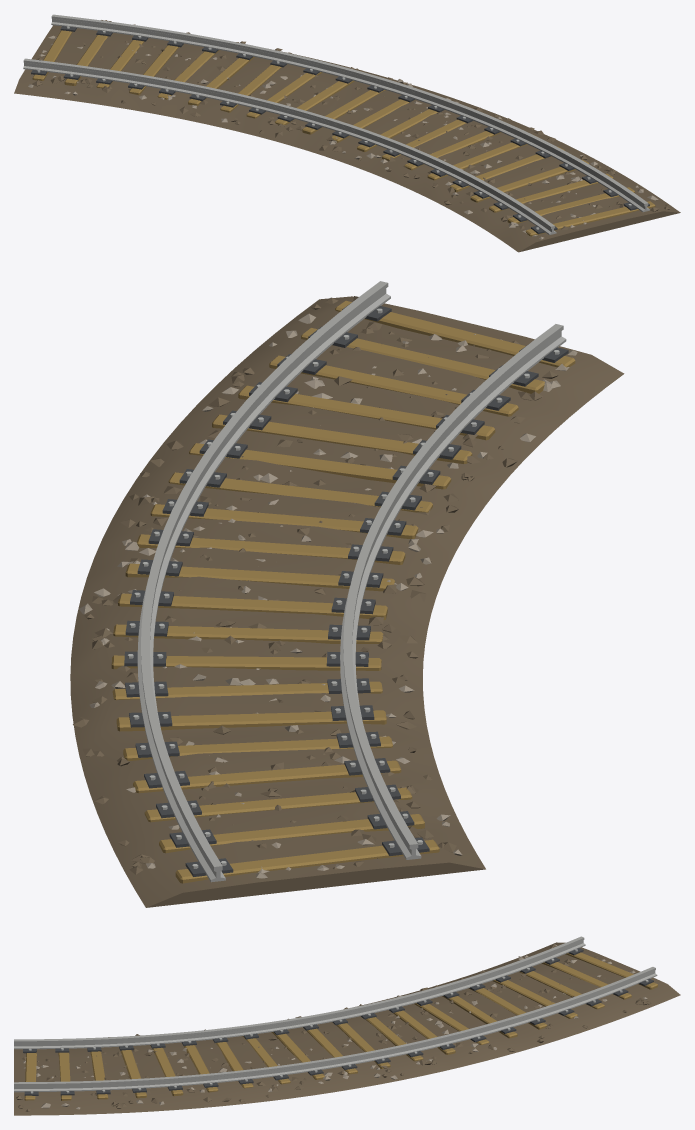
Rendered from legacy-curved-rail.glb.
3 views of the same model, one above another, from view 1: azimuth 30°, elevation 25°; view 2: azimuth 150°, elevation 25°; view 3: azimuth 270°, elevation 25° (orthographic). The views are drawn at different scales.
Visible parts, largest first — view 1: body; view 2: body; view 3: body.
Boxes of the visible parts, x1,y1,x2,y2 form: body: [14, 14, 680, 252]; body: [70, 281, 624, 907]; body: [14, 936, 680, 1115].
Bounding box in the file's own units: 4.74 × 0.2201 × 7.72.
